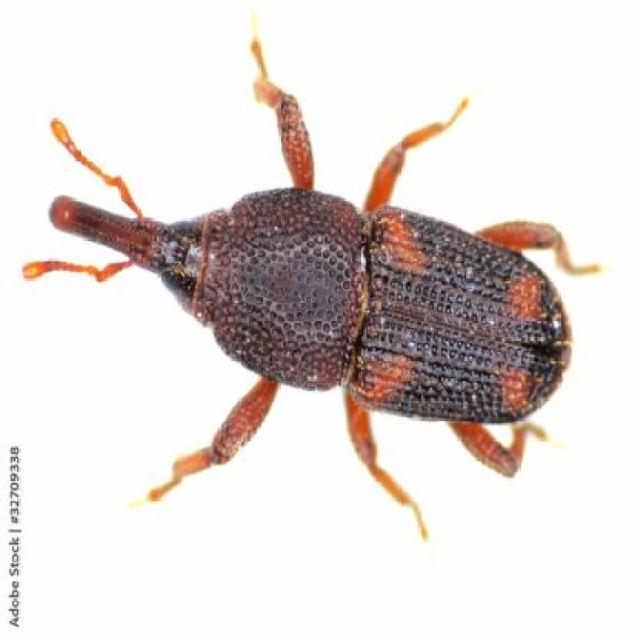rice-bug: (44, 163, 570, 479)
